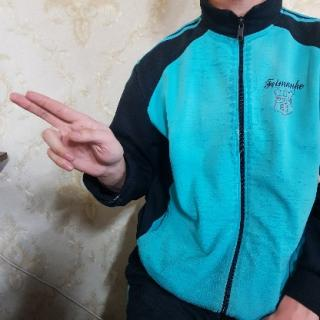TA: (9, 87, 127, 176)
